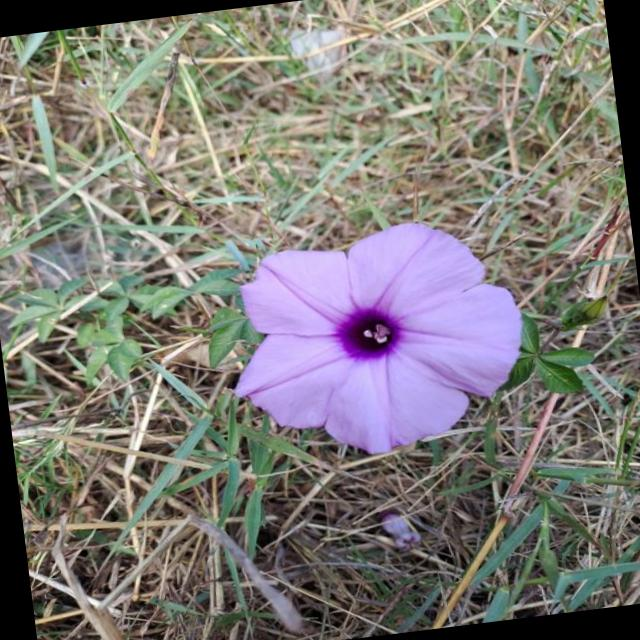ipomoea: (212, 207, 540, 473)
